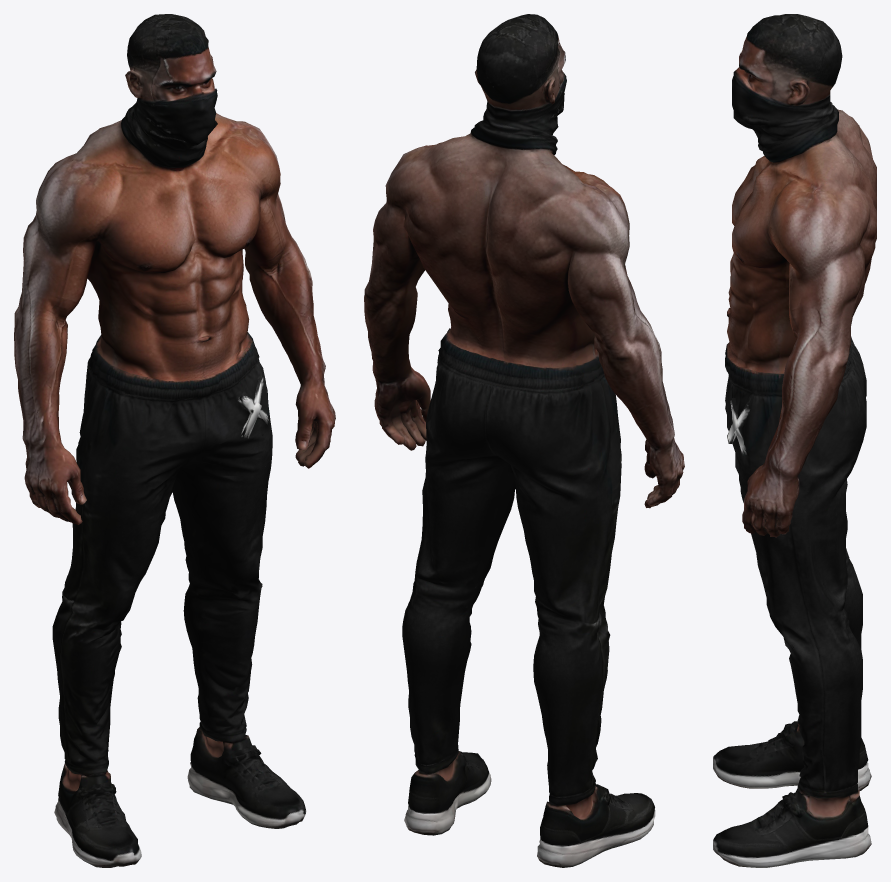
File: KLOVE.glb
3 renders of one model, left to right at view 1: azimuth 30°, elevation 25°; view 2: azimuth 150°, elevation 25°; view 3: azimuth 270°, elevation 25°, orthographic.
Parts seen in each view (by area): view 1: tripo_node_7c754991-dafd-42d6-b4f6-fec1152c4f55; view 2: tripo_node_7c754991-dafd-42d6-b4f6-fec1152c4f55; view 3: tripo_node_7c754991-dafd-42d6-b4f6-fec1152c4f55.
Boxes of the visible parts, x1,y1,x2,y2 form: tripo_node_7c754991-dafd-42d6-b4f6-fec1152c4f55: [14, 14, 335, 867]; tripo_node_7c754991-dafd-42d6-b4f6-fec1152c4f55: [364, 14, 684, 867]; tripo_node_7c754991-dafd-42d6-b4f6-fec1152c4f55: [713, 14, 876, 867].
Size of the model in its own units: 0.3846 by 0.9778 by 0.1818.
1 material, 1 textured.
